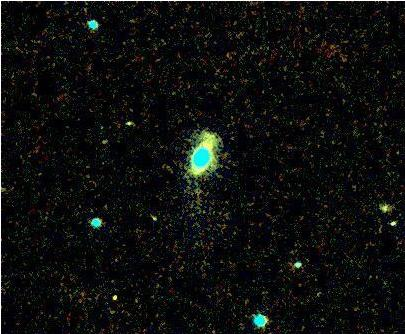star: (97, 280, 127, 310)
